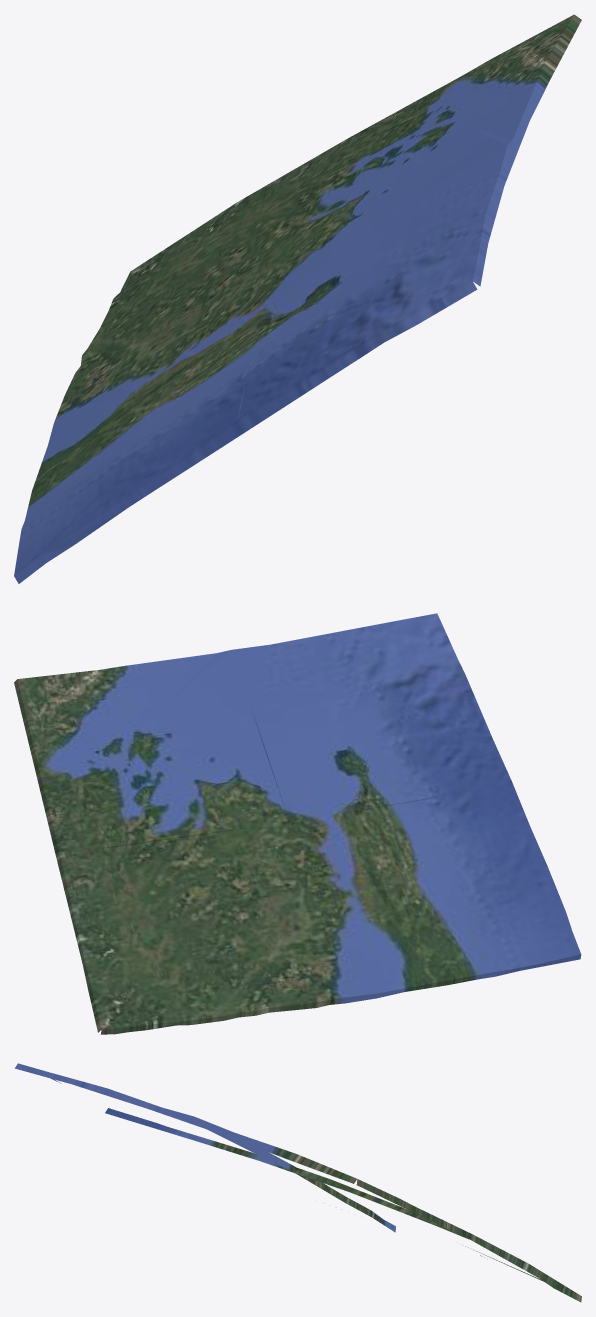
3 views of the same model, one above another, from view 1: azimuth 30°, elevation 25°; view 2: azimuth 150°, elevation 25°; view 3: azimuth 270°, elevation 25° (orthographic). The views are drawn at different scales.
Size of the model in its own units: 867405 by 387329 by 903657.
Materials: 1 (1 with a texture image).
